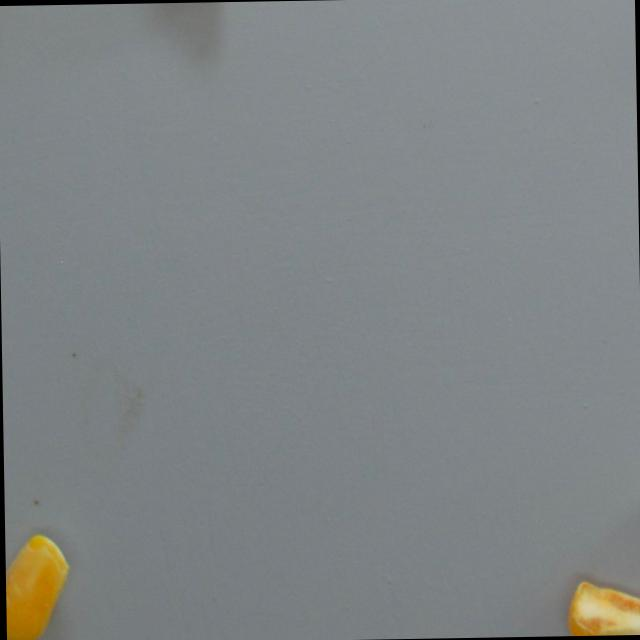pelicula: (4, 533, 73, 640), (567, 574, 640, 636)
